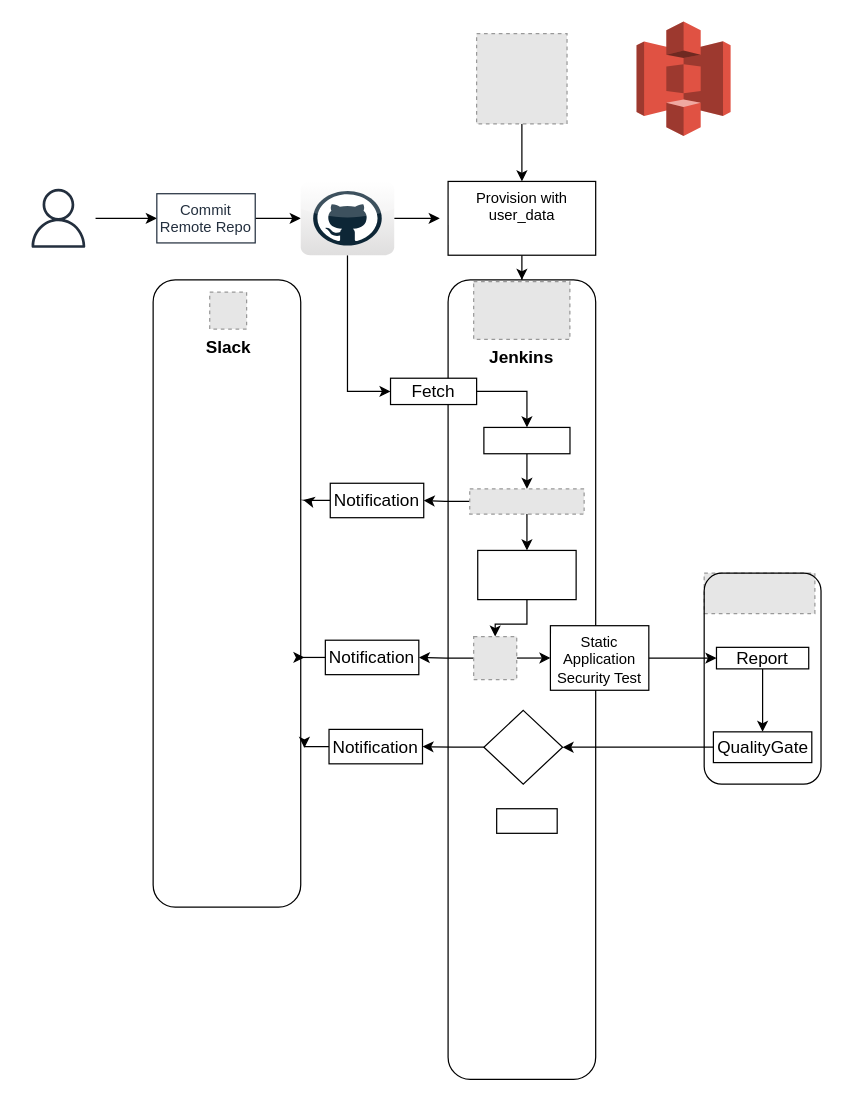
The diagram is 843 pixels wide and 1101 high, and some of its shapes have lost their labels. Grey dashed boxes stand in for pictures. Here are the shapes that lost their labels. From the top down, the centre of each, then its label:
point 57,217: User
point 526,440: Test
point 526,574: Code Analysis
point 523,746: P/F
point 526,820: Pass
